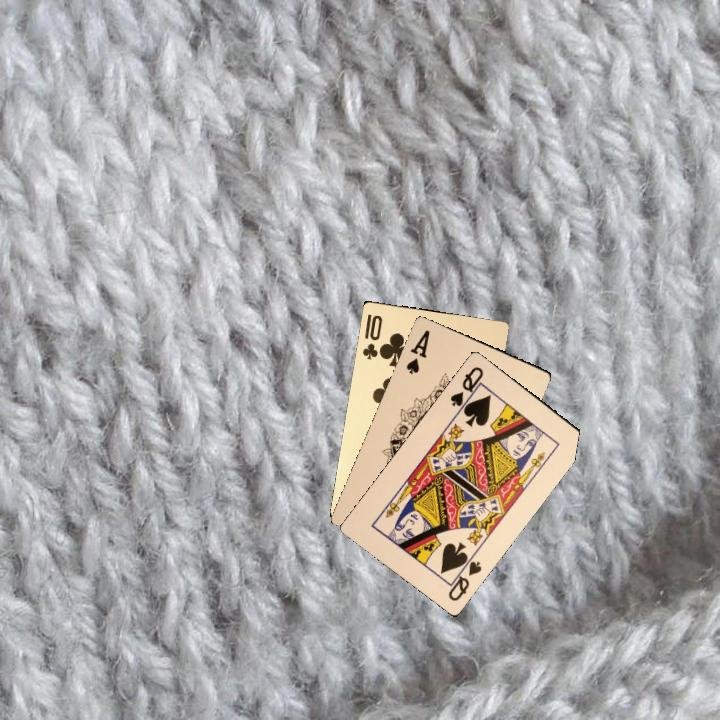10c: (358, 310, 385, 362)
As: (402, 326, 432, 376)
Qs: (444, 552, 485, 604), (446, 362, 486, 415)
